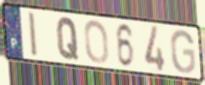4: (143, 24, 167, 75)
6: (115, 22, 136, 69)
G: (169, 29, 197, 75)
I: (27, 10, 39, 59)
O: (83, 19, 110, 65)
Q: (56, 16, 80, 61)
